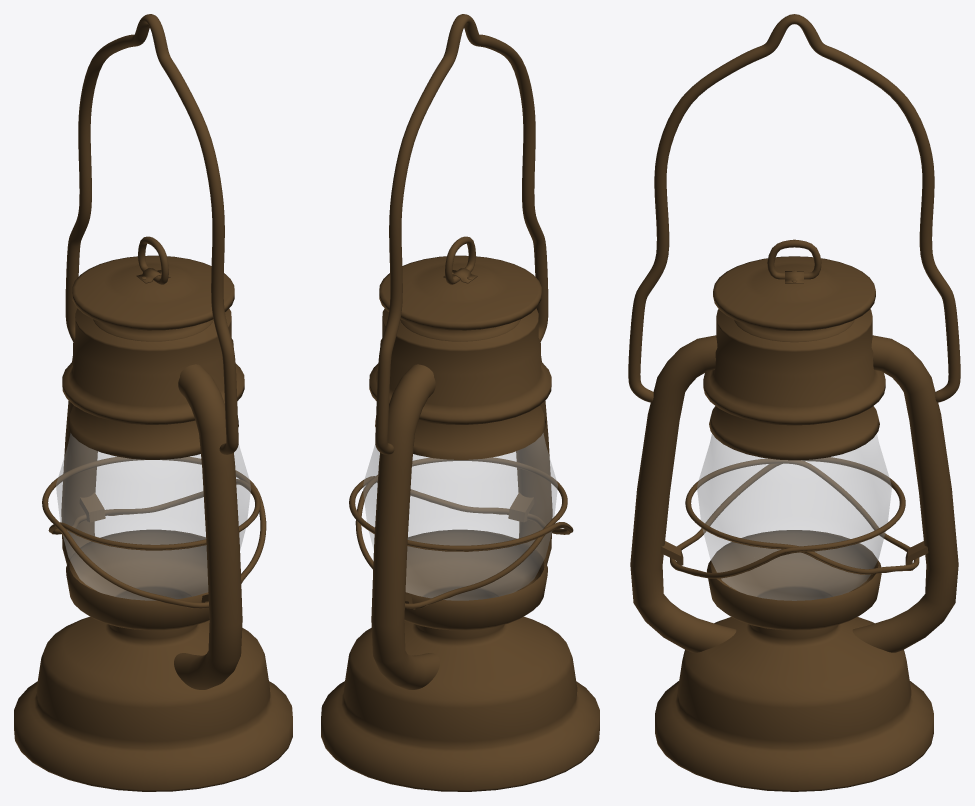
Rendered from lantern.glb.
The picture shows the model from 3 angles, left to right: view 1: azimuth 30°, elevation 25°; view 2: azimuth 150°, elevation 25°; view 3: azimuth 270°, elevation 25°; orthographic projection.
Visible parts, largest first — view 1: Circle, Circle.001, Circle.003, Circle.011, Circle.004, Circle.012, Circle.010, Circle.005, Circle.007, Circle.008, Plane.002; view 2: Circle, Circle.001, Circle.003, Circle.011, Circle.004, Circle.012, Circle.010, Circle.007, Circle.005, Circle.008, Plane.002; view 3: Circle, Circle.003, Circle.001, Circle.011, Circle.004, Circle.012, Circle.010, Circle.005, Circle.007, Circle.008, Plane.002.
Part boxes in pixels (x1=…): Circle: x1=14, y1=529, x2=292, y2=791; Circle.001: x1=56, y1=433, x2=250, y2=600; Circle.003: x1=61, y1=356, x2=242, y2=689; Circle.011: x1=62, y1=308, x2=244, y2=424; Circle.004: x1=65, y1=14, x2=238, y2=454; Circle.012: x1=72, y1=255, x2=234, y2=341; Circle.010: x1=68, y1=406, x2=238, y2=459; Circle.005: x1=42, y1=456, x2=266, y2=608; Circle.007: x1=48, y1=479, x2=260, y2=550; Circle.008: x1=138, y1=236, x2=168, y2=284; Plane.002: x1=79, y1=492, x2=208, y2=602; Circle: x1=321, y1=529, x2=599, y2=791; Circle.001: x1=363, y1=433, x2=557, y2=600; Circle.003: x1=371, y1=356, x2=552, y2=689; Circle.011: x1=369, y1=308, x2=551, y2=424; Circle.004: x1=375, y1=14, x2=548, y2=454; Circle.012: x1=379, y1=255, x2=541, y2=341; Circle.010: x1=375, y1=406, x2=545, y2=459; Circle.007: x1=355, y1=457, x2=567, y2=609; Circle.005: x1=349, y1=476, x2=573, y2=551; Circle.008: x1=445, y1=236, x2=475, y2=284; Plane.002: x1=405, y1=492, x2=534, y2=603; Circle: x1=655, y1=530, x2=933, y2=791; Circle.003: x1=630, y1=335, x2=958, y2=652; Circle.001: x1=697, y1=434, x2=891, y2=600; Circle.011: x1=703, y1=309, x2=885, y2=425; Circle.004: x1=628, y1=14, x2=960, y2=402; Circle.012: x1=713, y1=256, x2=875, y2=342; Circle.010: x1=709, y1=406, x2=879, y2=460; Circle.005: x1=670, y1=457, x2=905, y2=578; Circle.007: x1=685, y1=458, x2=919, y2=574; Circle.008: x1=767, y1=239, x2=821, y2=279; Plane.002: x1=660, y1=541, x2=928, y2=565.
Size of the model in its own units: 2.1 by 5.95 by 2.5.
